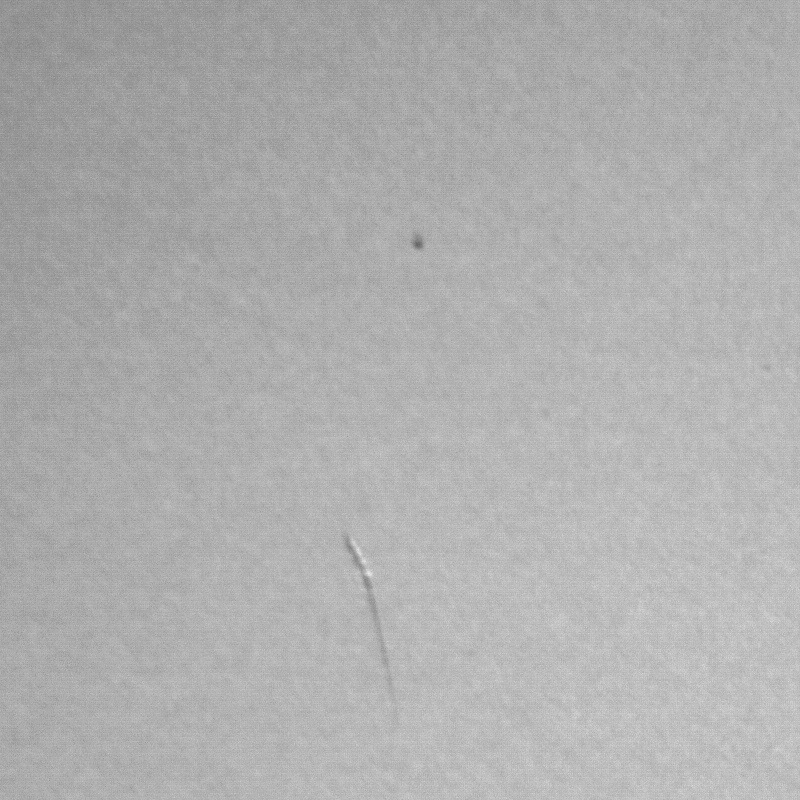defect: (335, 531, 407, 700), (403, 230, 428, 253)
